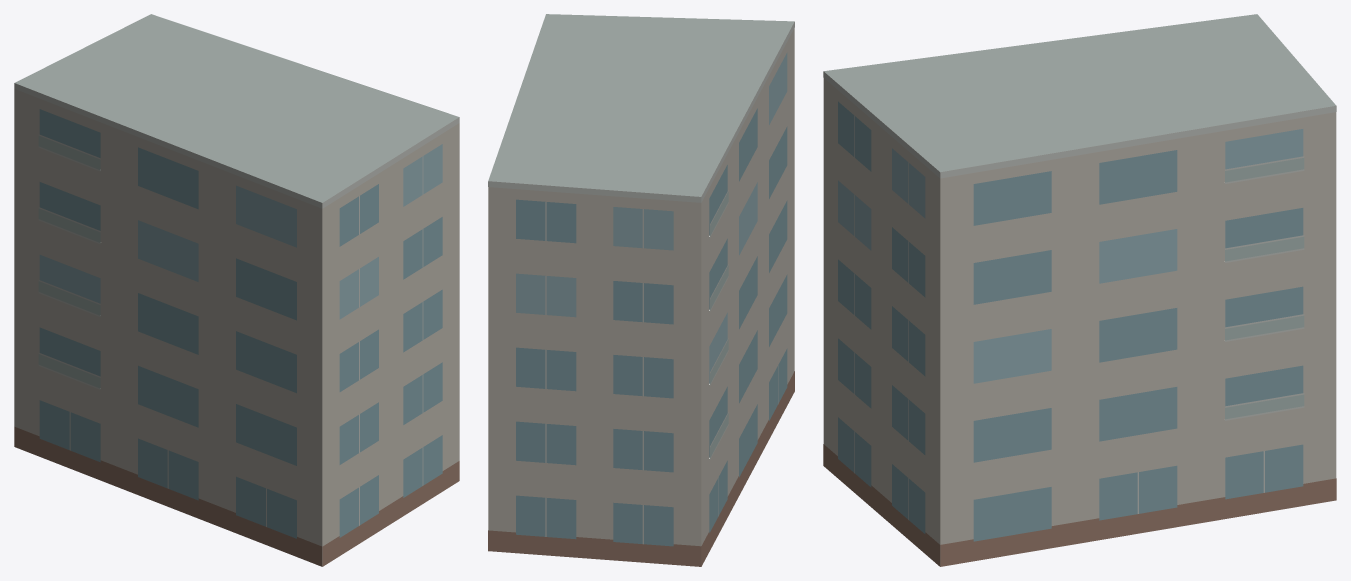
Rendered from survey-upis-32764596.glb.
3 renders of one model, left to right at view 1: azimuth 30°, elevation 25°; view 2: azimuth 150°, elevation 25°; view 3: azimuth 270°, elevation 25°, orthographic. The views are drawn at different scales.
Visible parts, largest first — view 1: survey-upis-32764596.tmp; view 2: survey-upis-32764596.tmp; view 3: survey-upis-32764596.tmp.
Part boxes in pixels (x1,y1,x2,y2): survey-upis-32764596.tmp: [14, 14, 459, 566]; survey-upis-32764596.tmp: [488, 14, 794, 566]; survey-upis-32764596.tmp: [823, 14, 1336, 566].
Bounding box in the file's own units: 13.12 × 15.25 × 17.97.
